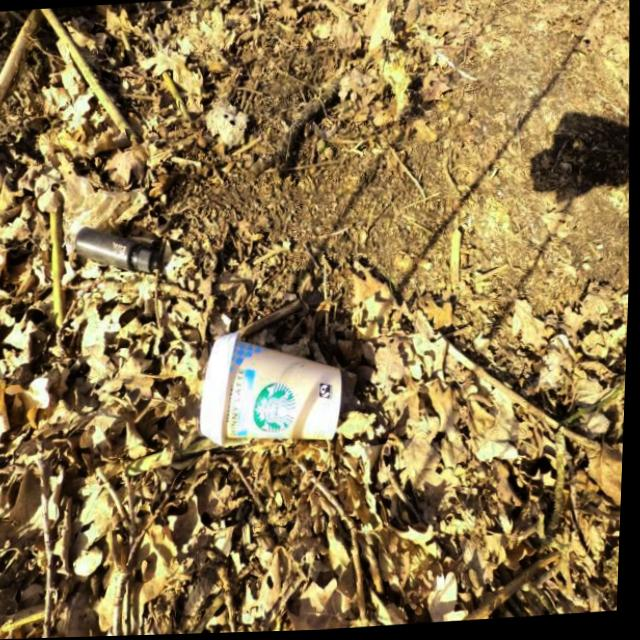Cup: (197, 325, 349, 451)
